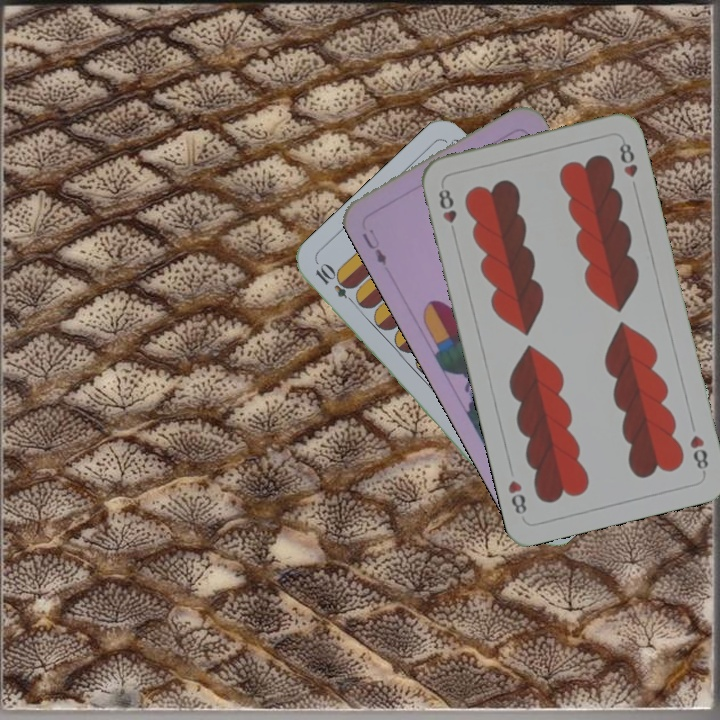E10: (311, 260, 361, 309)
EU: (357, 225, 390, 269)
H8: (434, 185, 460, 239), (685, 431, 711, 477)
